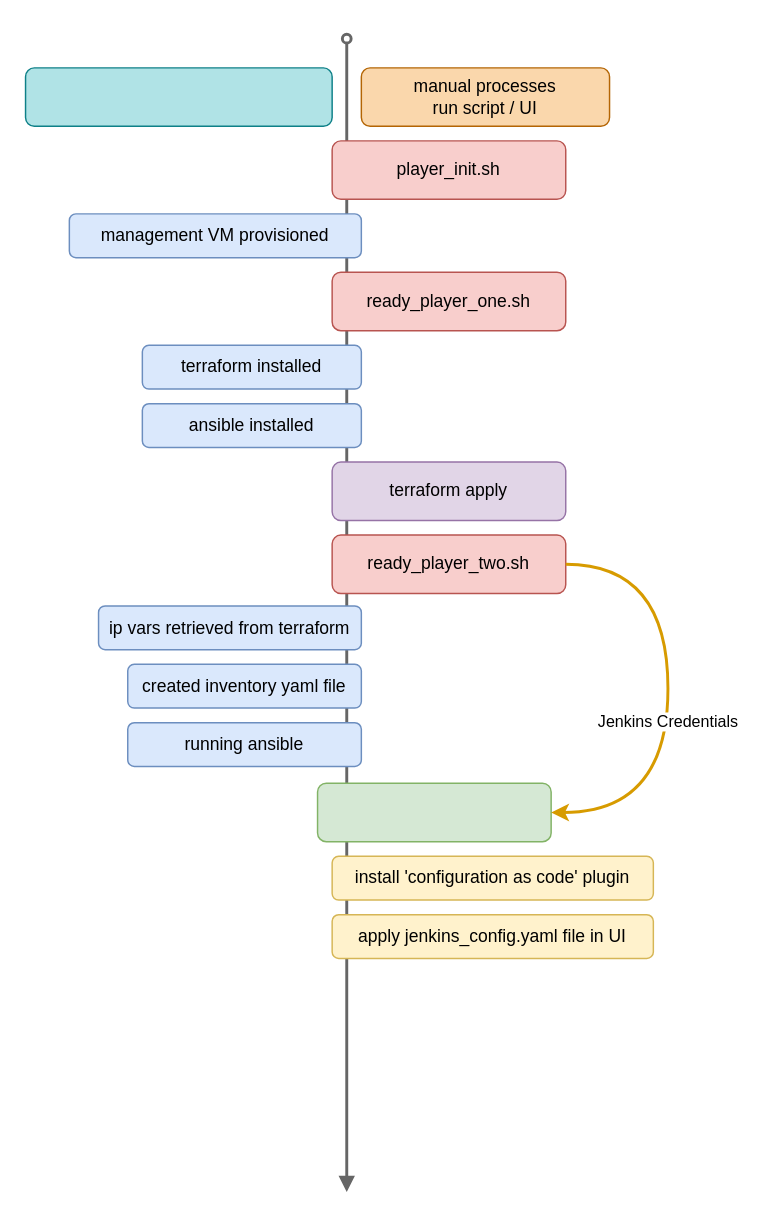
Some shapes in this 764 by 1231 pixel diagram are drawn without their labels. Each missing label, with the centre of its shape:
automated processes: (x=178, y=96)
jenkins UI / pipeline setup: (x=433, y=812)
